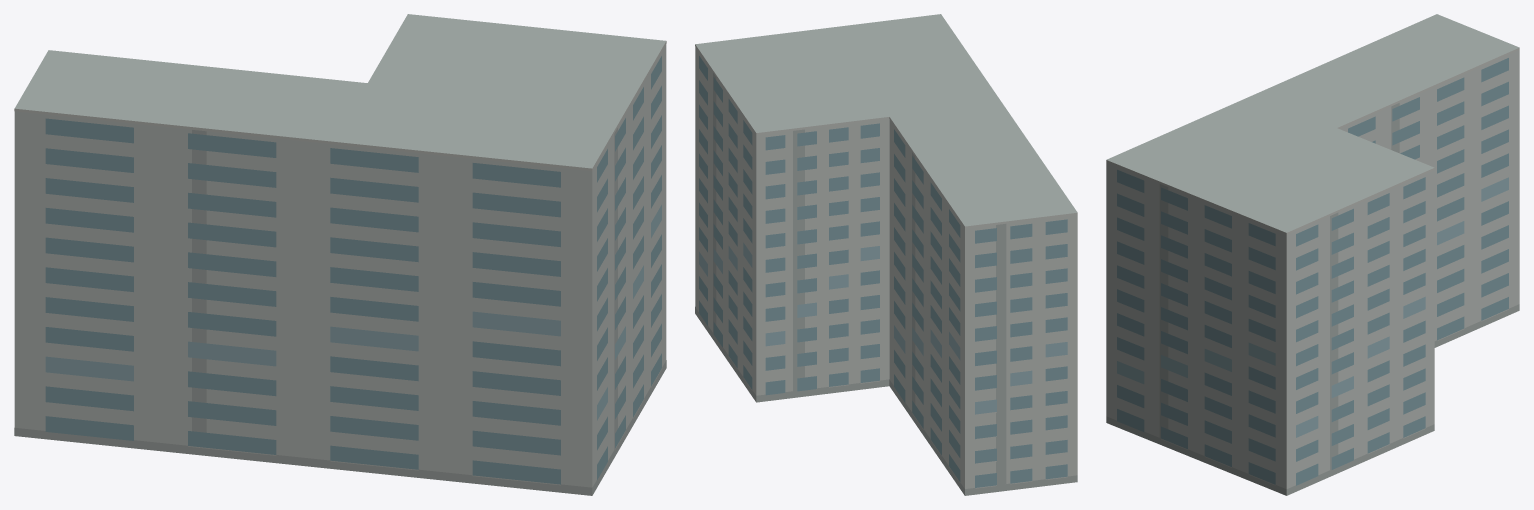
File: residential-66f48125-209a-4833-abbb-a80c21306946.glb
3 renders of one model, left to right at view 1: azimuth 30°, elevation 25°; view 2: azimuth 150°, elevation 25°; view 3: azimuth 270°, elevation 25°, orthographic. The views are drawn at different scales.
Parts seen in each view (by area): view 1: residential-66f48125-209a-4833-abbb-a80c21306946.tmp; view 2: residential-66f48125-209a-4833-abbb-a80c21306946.tmp; view 3: residential-66f48125-209a-4833-abbb-a80c21306946.tmp.
Boxes of the visible parts, x1,y1,x2,y2 form: residential-66f48125-209a-4833-abbb-a80c21306946.tmp: (14,14,666,495); residential-66f48125-209a-4833-abbb-a80c21306946.tmp: (695,14,1077,495); residential-66f48125-209a-4833-abbb-a80c21306946.tmp: (1106,14,1519,495).
Bounding box in the file's own units: 51.78 × 29 × 41.33.
